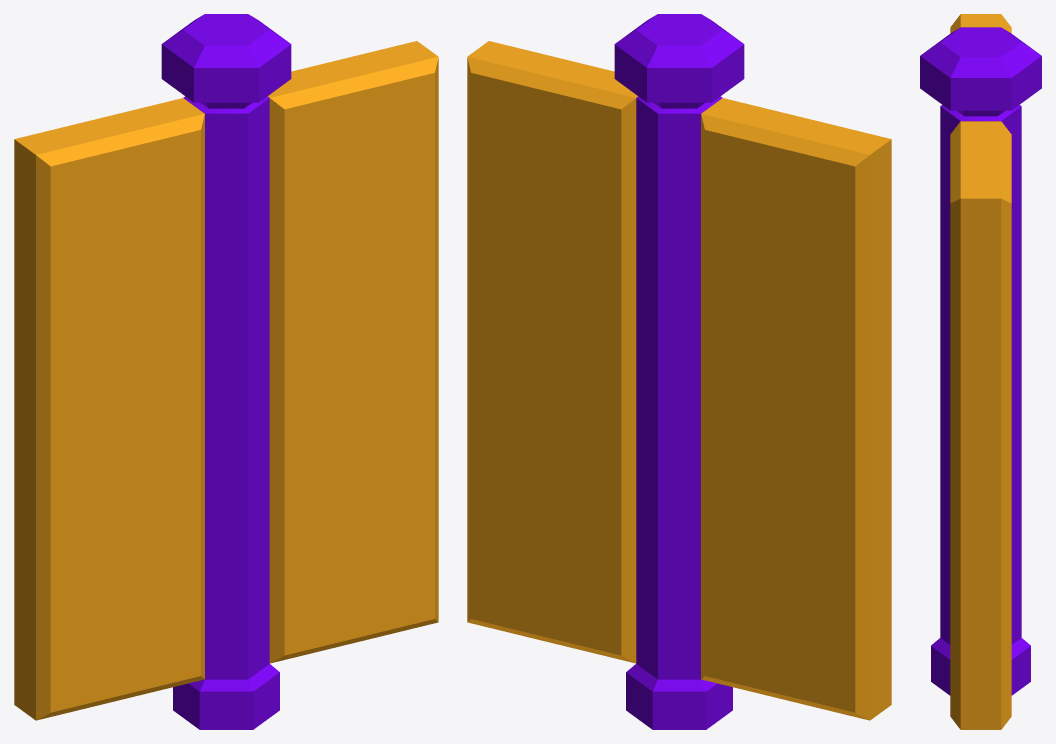
The model's file is scene_tD6pf4SVlj.glb.
3 views of the same model, side by side, from view 1: azimuth 30°, elevation 25°; view 2: azimuth 150°, elevation 25°; view 3: azimuth 270°, elevation 25° (orthographic). The views are drawn at different scales.
Visible parts, largest first — view 1: Obstacle_Revolving_Gate_01; view 2: Obstacle_Revolving_Gate_01; view 3: Obstacle_Revolving_Gate_01.
Part boxes in pixels (x1,y1,x2,y2): Obstacle_Revolving_Gate_01: (14,14,438,729); Obstacle_Revolving_Gate_01: (467,14,891,729); Obstacle_Revolving_Gate_01: (920,14,1041,729).
Bounding box in the file's own units: 1.24 × 2 × 0.346.
1 material, 1 textured.
